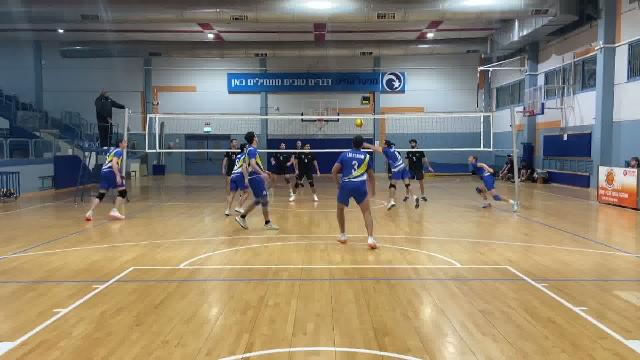ball: (355, 117, 366, 129)
